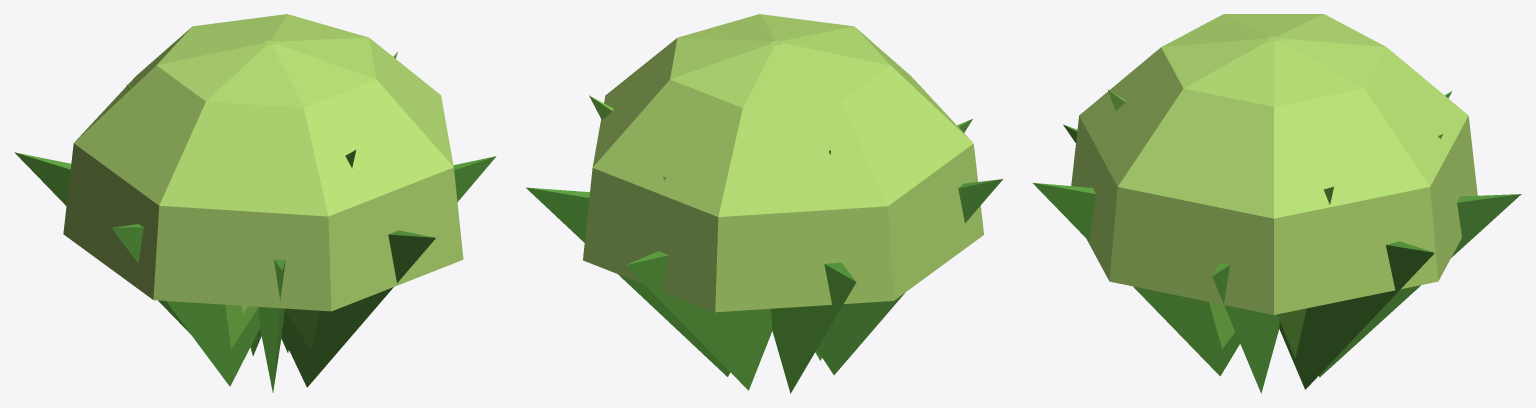
File: lettuce-crop.glb
The picture shows the model from 3 angles, left to right: view 1: azimuth 30°, elevation 25°; view 2: azimuth 150°, elevation 25°; view 3: azimuth 270°, elevation 25°; orthographic projection.
Visible parts, largest first — view 1: lettuce-crop; view 2: lettuce-crop; view 3: lettuce-crop.
Boxes of the visible parts, left/top/right/bottom form: lettuce-crop: left=14, top=14, right=496, bottom=392; lettuce-crop: left=526, top=14, right=1002, bottom=393; lettuce-crop: left=1033, top=14, right=1521, bottom=393.
Bounding box in the file's own units: 0.3675 × 0.2998 × 0.3957.
Materials: 1 (1 with a texture image).
